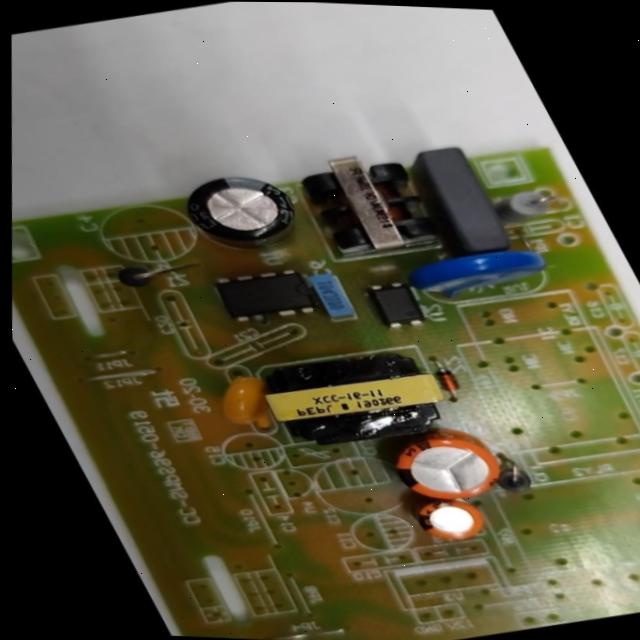Cap1: (380, 422, 516, 508)
Cap2: (410, 495, 494, 545)
Cap3: (170, 167, 317, 263)
MOSFET: (209, 262, 325, 327)
Mov: (403, 238, 558, 306)
Resistor: (487, 184, 567, 229)
Transformer: (250, 339, 467, 457), (287, 145, 450, 260)
